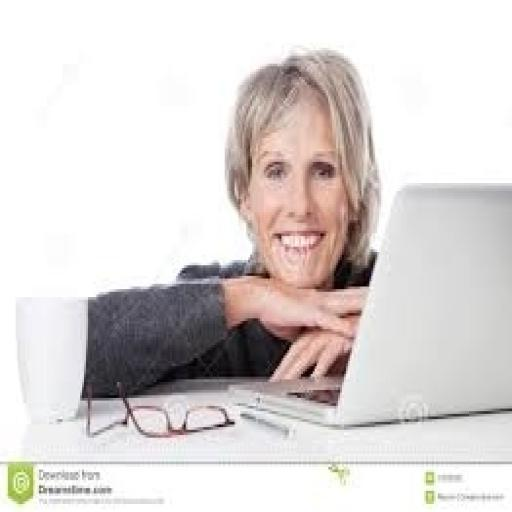using_laptop: (229, 178, 510, 430)
